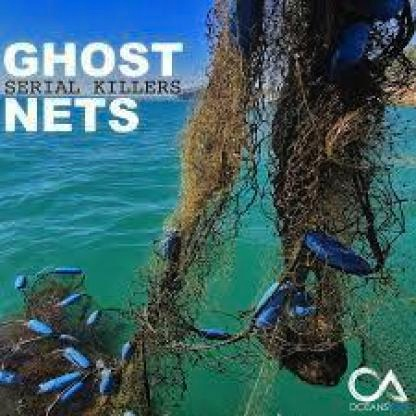net: (181, 2, 370, 351)
